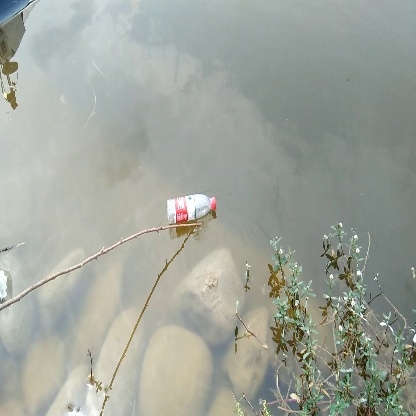bottle: (161, 188, 222, 229)
